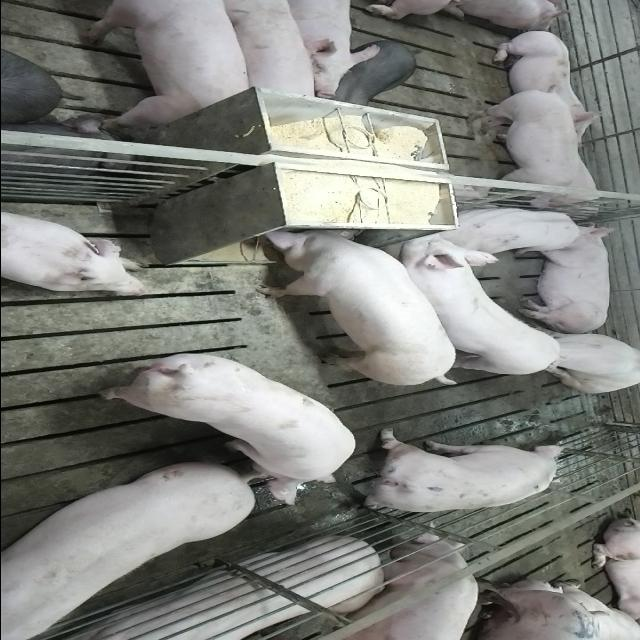Feeding: (245, 219, 462, 384)
Lateral_lying: (36, 539, 385, 640), (512, 224, 616, 335)
Sitting: (528, 329, 640, 394)
Standing: (0, 466, 257, 640), (94, 355, 354, 509), (384, 244, 563, 380), (77, 2, 251, 132), (346, 430, 568, 515), (319, 535, 477, 640), (459, 87, 579, 211), (214, 2, 318, 103), (281, 0, 381, 99)
Sternal_lying: (1, 205, 152, 292), (485, 29, 609, 133)
